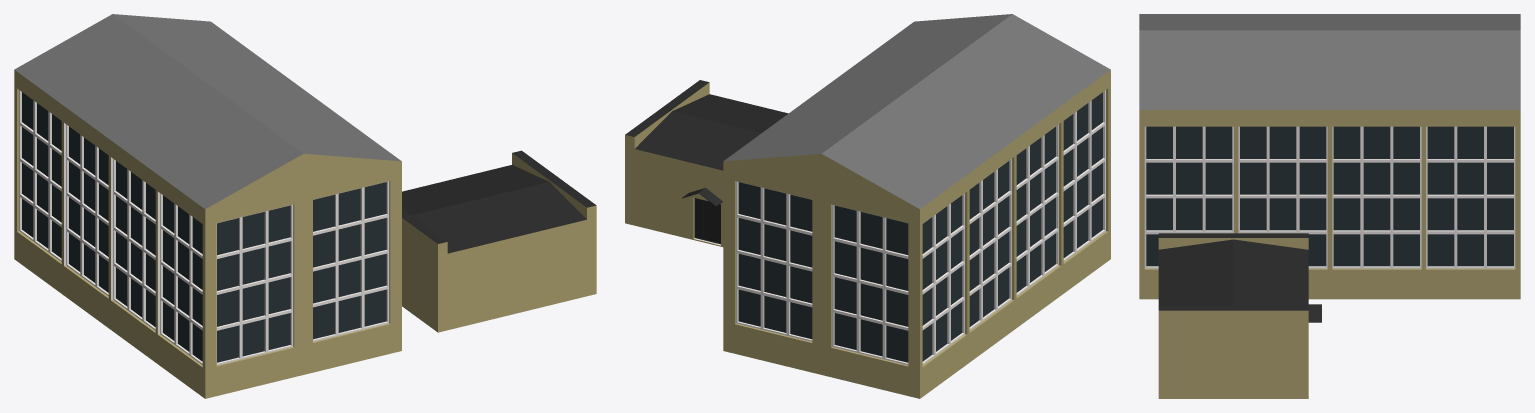
Rendered from Tec.glb.
3 views of the same model, side by side, from view 1: azimuth 30°, elevation 25°; view 2: azimuth 150°, elevation 25°; view 3: azimuth 270°, elevation 25° (orthographic).
Parts seen in each view (by area): view 1: Cube.012, Cube.013, УБК_Окно_2х3.106, УБК_Окно_2х3.107; view 2: Cube.012, УБК_Окно_2х3.106, УБК_Окно_2х3.107, Cube.013, УБК_Дверь.019; view 3: Cube.012, УБК_Окно_2х3.106, Cube.013.
Part boxes in pixels (x1,y1,x2,y2): Cube.012: [14, 14, 401, 398]; Cube.013: [402, 150, 596, 332]; УБК_Окно_2х3.106: [19, 90, 202, 364]; УБК_Окно_2х3.107: [216, 181, 390, 365]; Cube.012: [723, 14, 1110, 398]; УБК_Окно_2х3.106: [922, 90, 1105, 364]; УБК_Окно_2х3.107: [736, 181, 908, 364]; Cube.013: [625, 80, 788, 246]; УБК_Дверь.019: [693, 197, 720, 245]; Cube.012: [1139, 14, 1520, 299]; УБК_Окно_2х3.106: [1144, 126, 1515, 268]; Cube.013: [1158, 233, 1308, 398].
Bounding box in the file's own units: 3.31 × 1.74 × 2.73.
